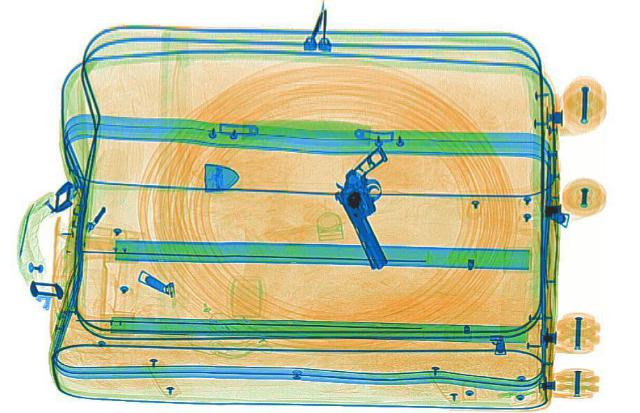Gun: (312, 147, 442, 268)
